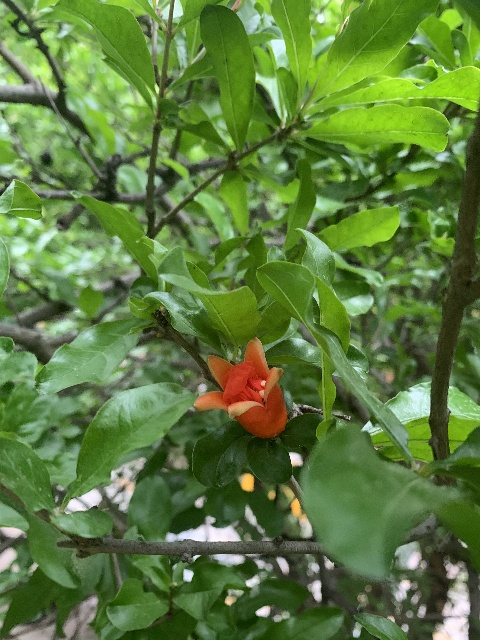flower: (194, 337, 287, 439)
